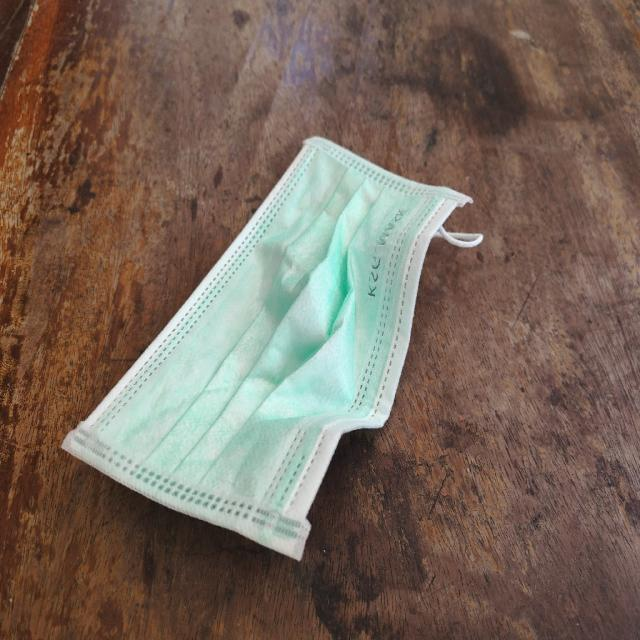face mask: (57, 135, 474, 567)
